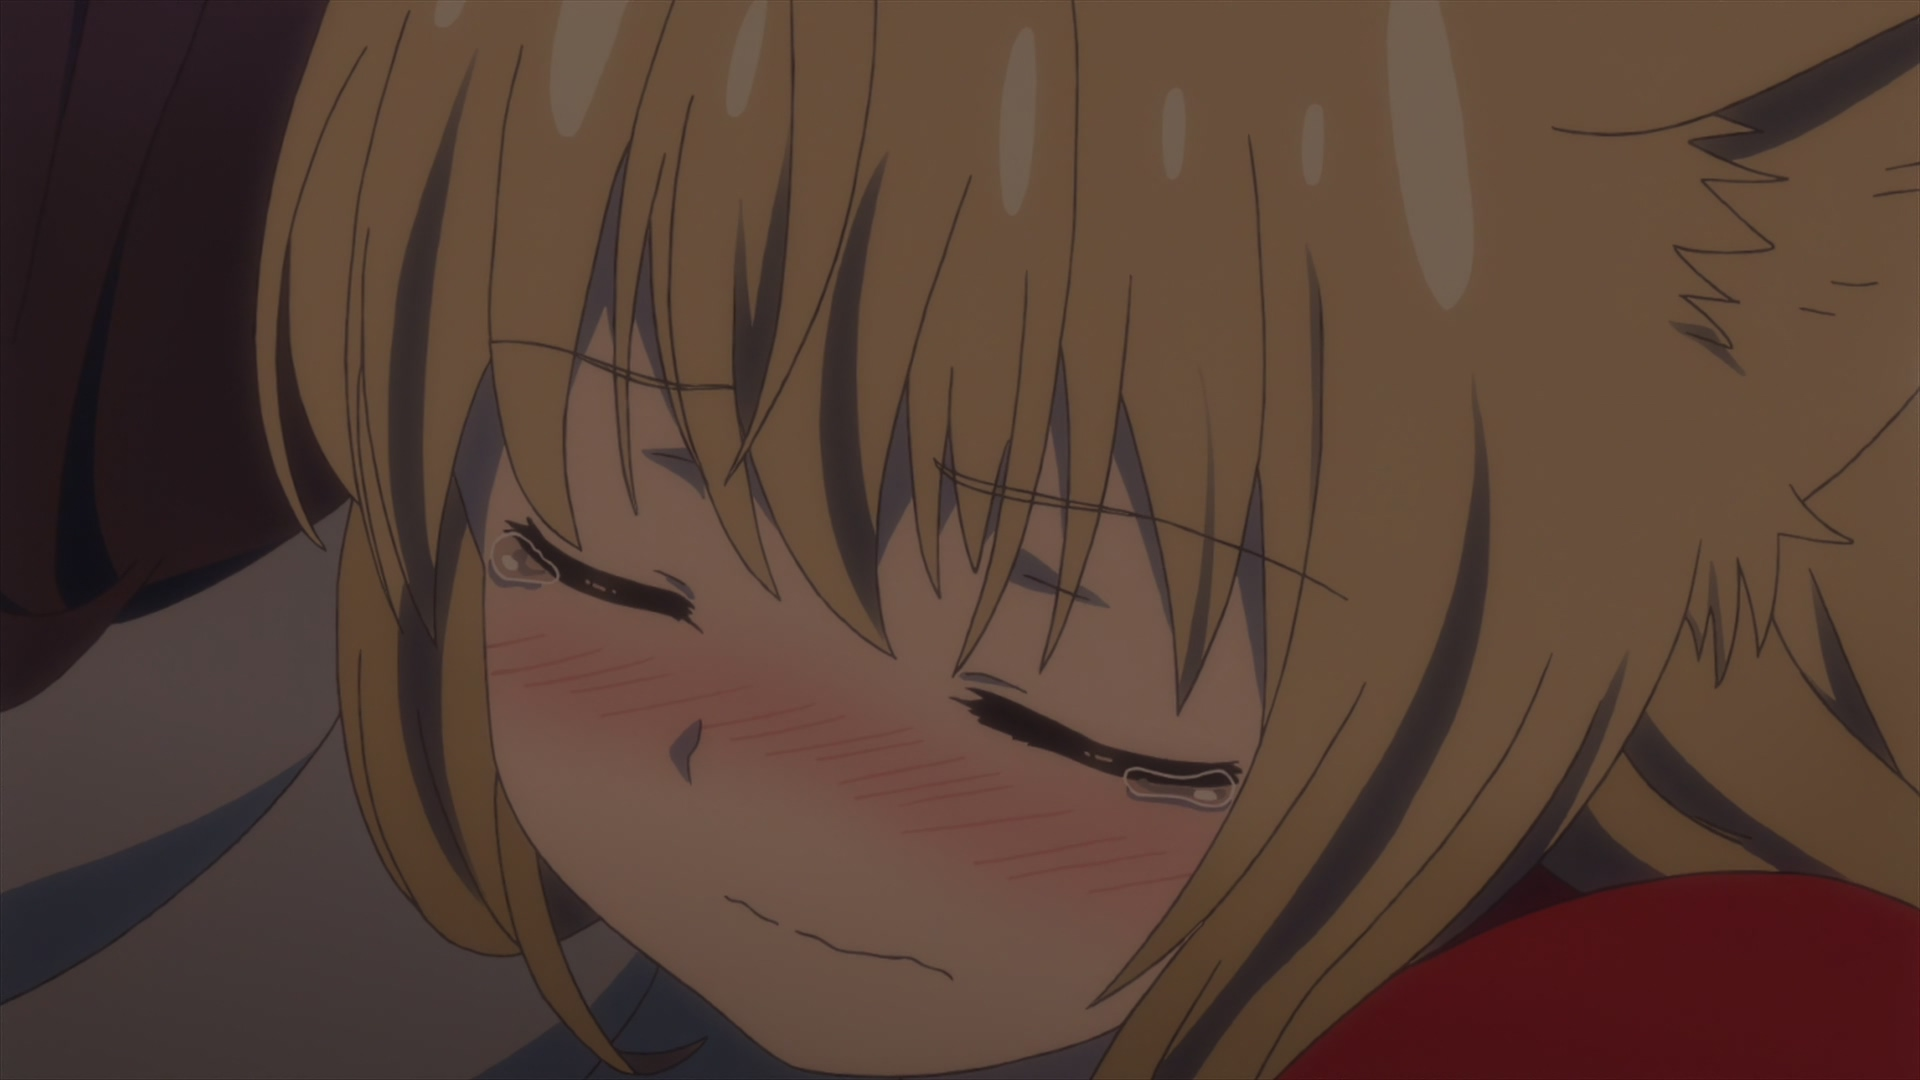柚: (255, 1, 1920, 1080)
